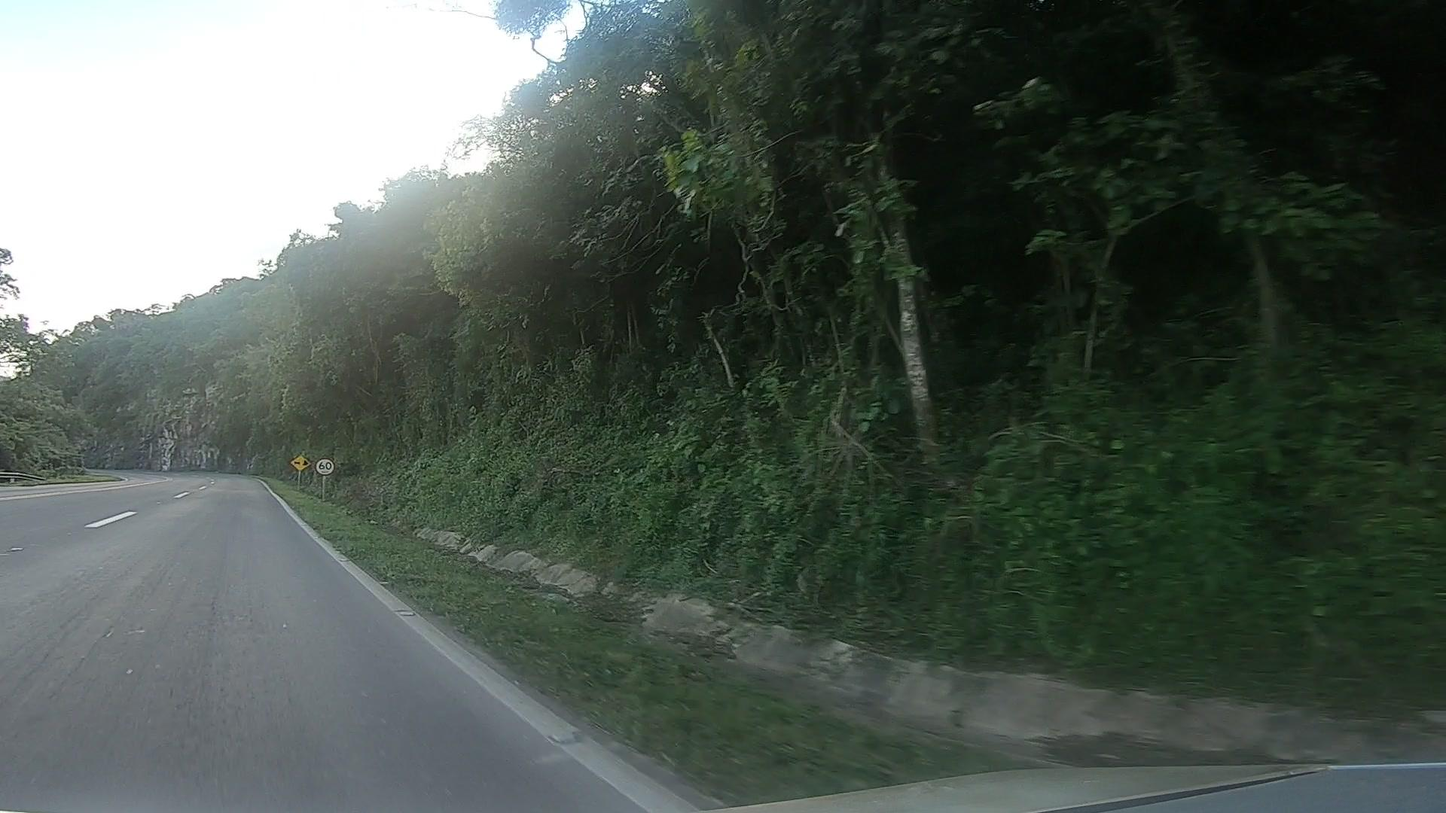R-19: (314, 455, 336, 475)
